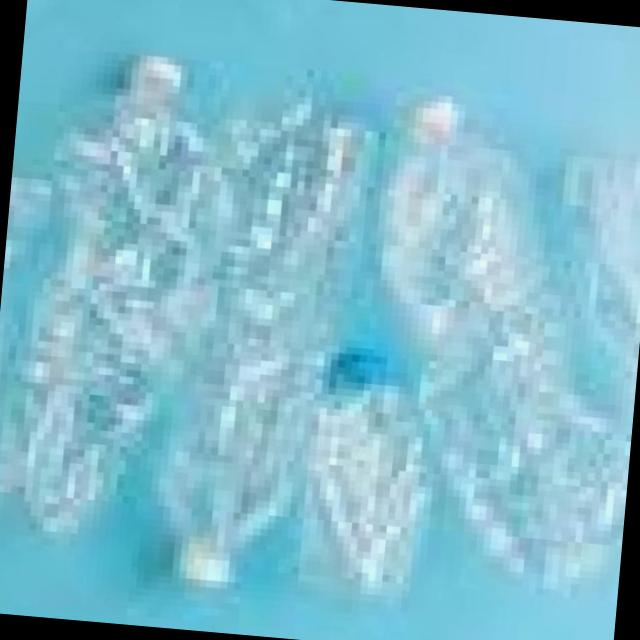trash: (343, 77, 640, 585), (0, 20, 242, 554), (153, 90, 362, 598), (525, 127, 640, 517), (288, 336, 440, 606)
